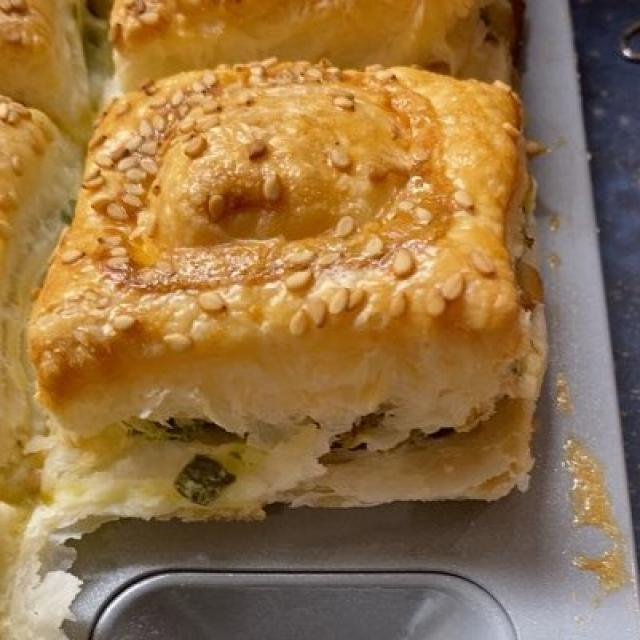puff-pastry: (2, 78, 562, 546)
